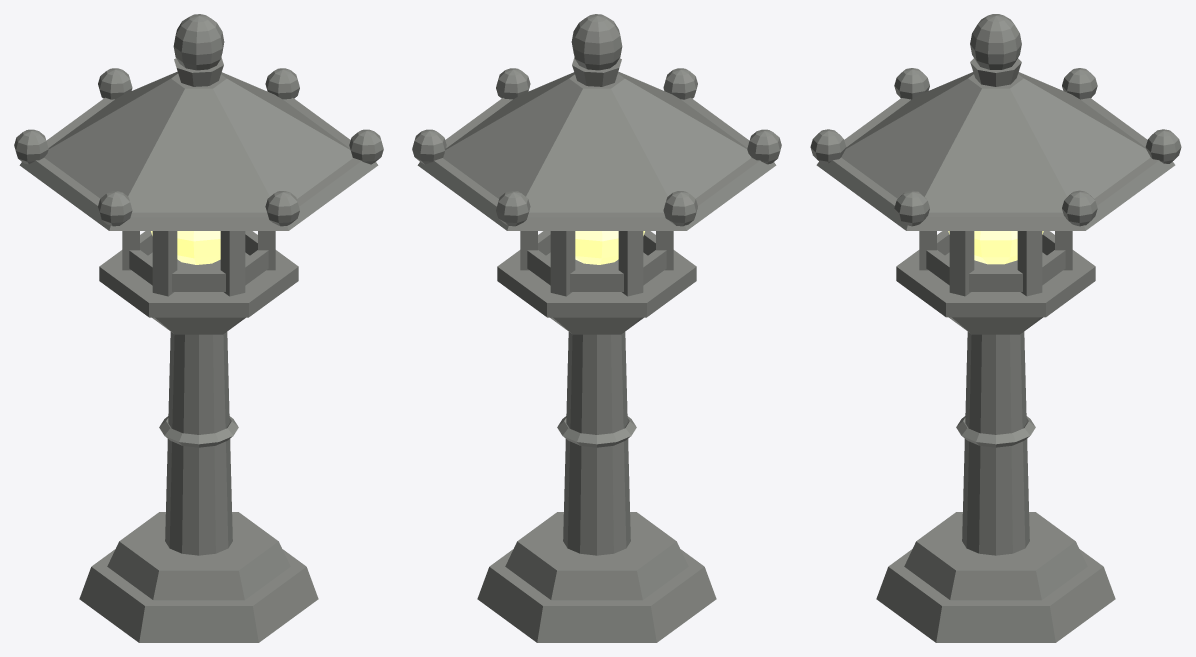
Rendered from lantern.glb.
The picture shows the model from 3 angles, left to right: view 1: azimuth 30°, elevation 25°; view 2: azimuth 150°, elevation 25°; view 3: azimuth 270°, elevation 25°; orthographic projection.
Visible parts, largest first — view 1: Lantern_stone, Lantern_glow; view 2: Lantern_stone, Lantern_glow; view 3: Lantern_stone, Lantern_glow.
Part boxes in pixels (bbox=[...]): Lantern_stone: bbox=[14, 14, 383, 642]; Lantern_glow: bbox=[151, 231, 220, 264]; Lantern_stone: bbox=[412, 14, 781, 642]; Lantern_glow: bbox=[575, 231, 644, 264]; Lantern_stone: bbox=[810, 14, 1181, 642]; Lantern_glow: bbox=[948, 231, 1043, 264].
Bounding box in the file's own units: 1.63 × 3.23 × 1.86.
